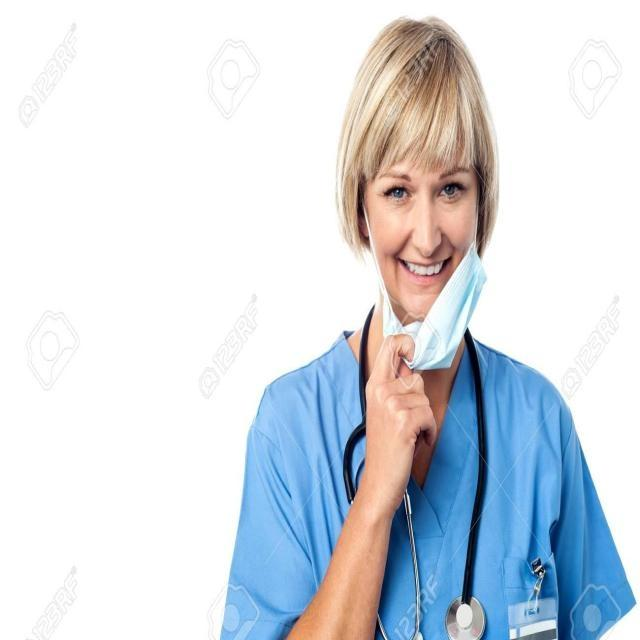hairnet: (344, 127, 486, 379)
